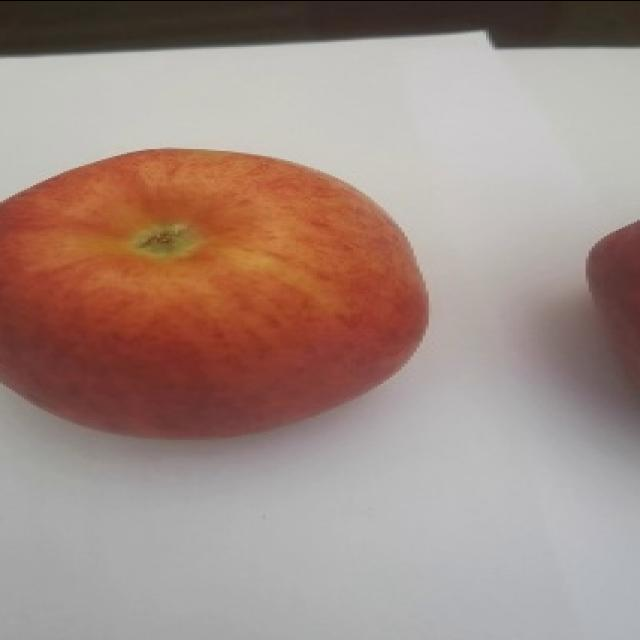Apple: (0, 146, 429, 440), (584, 217, 639, 394)
